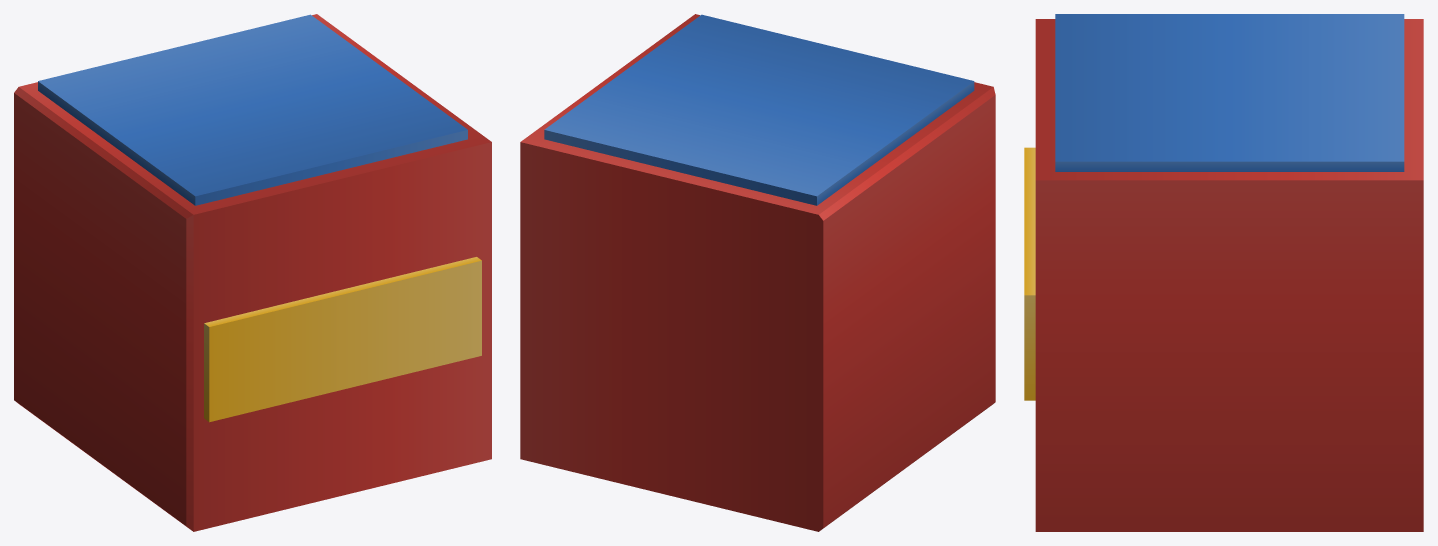
The model's file is dt_puzzle_cube.fbx.
The picture shows the model from 3 angles, left to right: view 1: azimuth 30°, elevation 25°; view 2: azimuth 150°, elevation 25°; view 3: azimuth 270°, elevation 25°; orthographic projection. The views are drawn at different scales.
Visible parts, largest first — view 1: dt_puzzle_cube; view 2: dt_puzzle_cube; view 3: dt_puzzle_cube.
Part boxes in pixels (left/top/right/bottom): dt_puzzle_cube: left=14, top=14, right=491, bottom=531; dt_puzzle_cube: left=520, top=14, right=995, bottom=531; dt_puzzle_cube: left=1024, top=14, right=1423, bottom=531.
Size of the model in its own units: 48.54 by 50 by 50.
